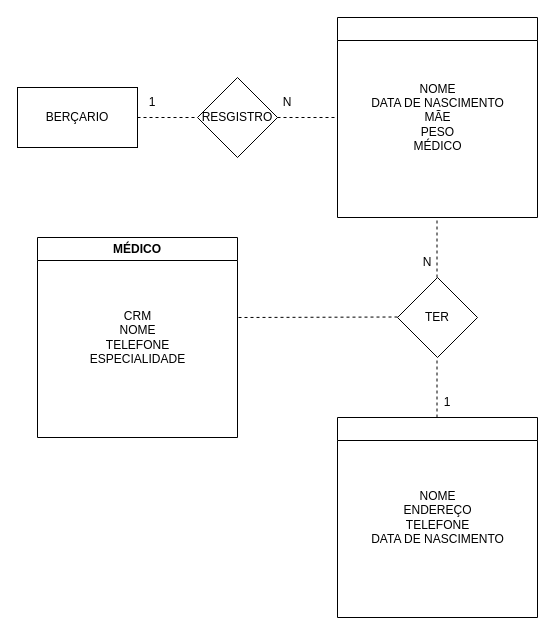
This 555x635 diagram has some shape labels left out. Here are the shapes that lost their labels. From the top down, the box of each, then its label:
(336, 16, 538, 218): BEBÊ
(336, 416, 538, 618): MÃE
